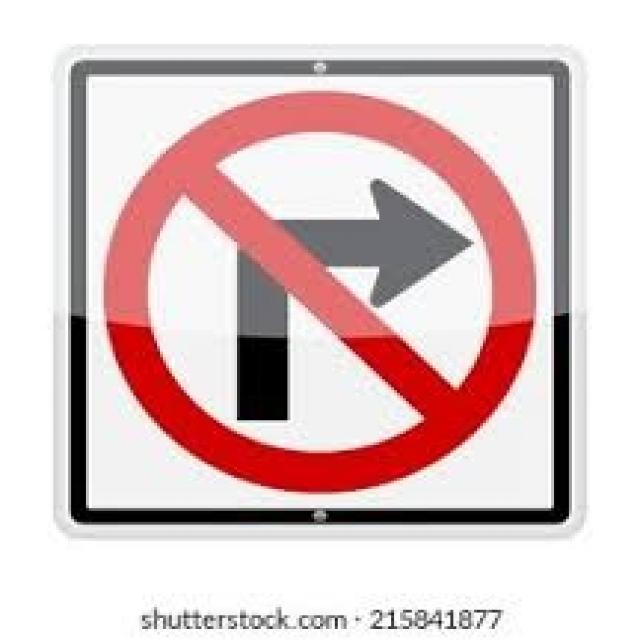do_not_turn_right: (95, 86, 540, 494)
